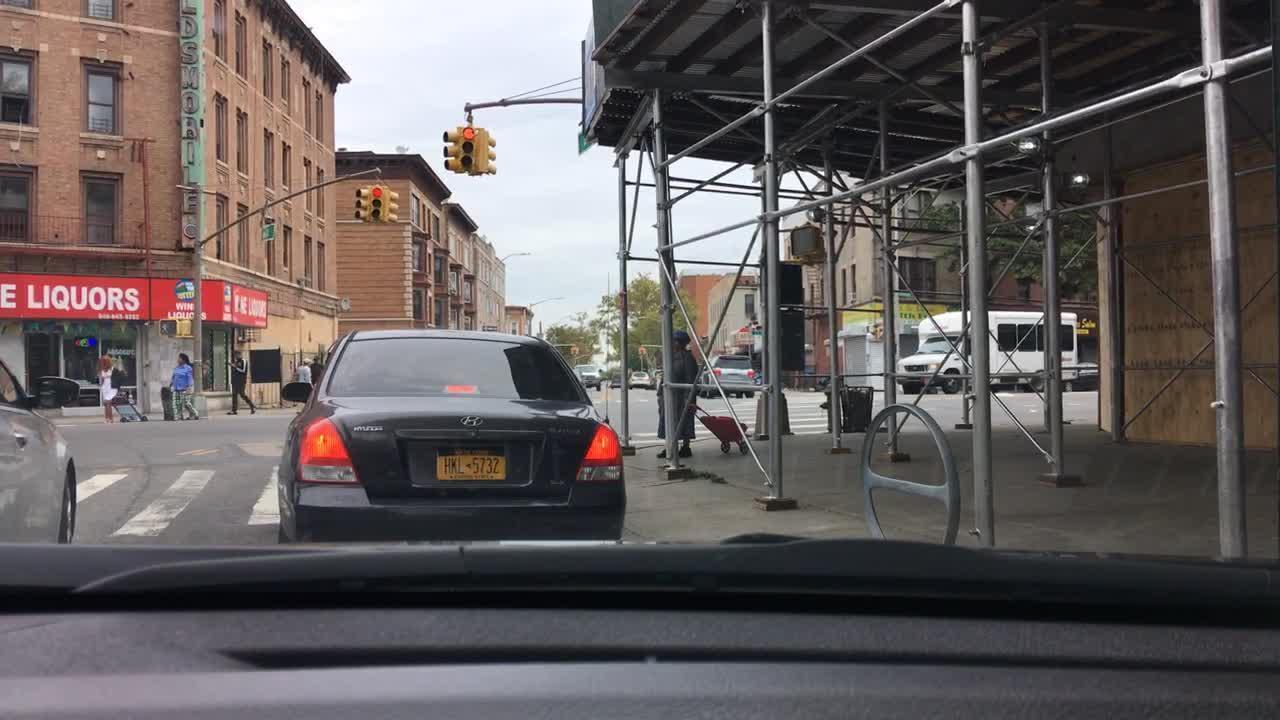Hyundai: (461, 407, 485, 432)
